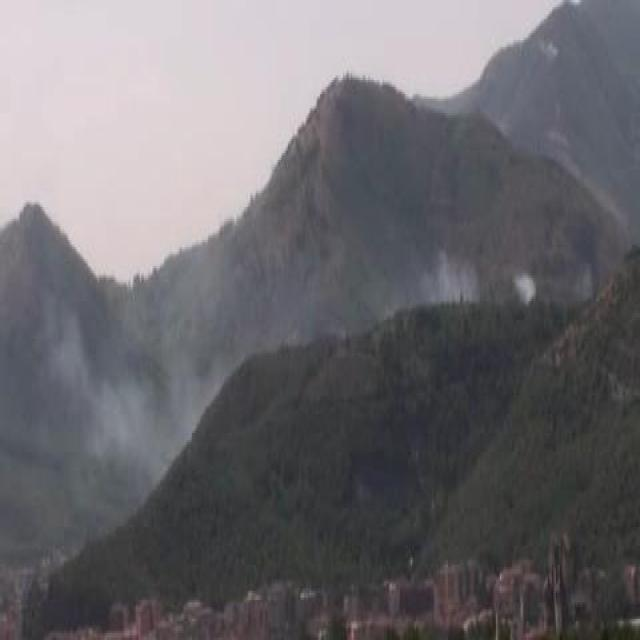Smoke: (60, 329, 195, 462), (420, 256, 541, 304)
